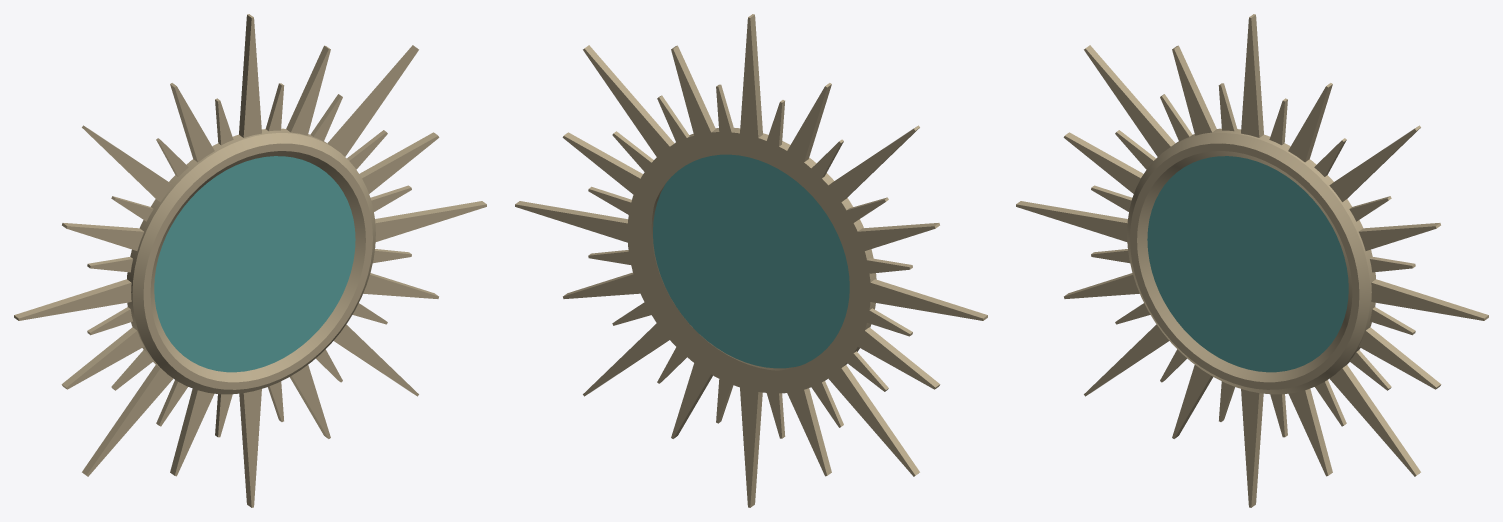
The model's file is KC32__AD_Int_Mirror_Sunburst.glb.
The picture shows the model from 3 angles, left to right: view 1: azimuth 30°, elevation 25°; view 2: azimuth 150°, elevation 25°; view 3: azimuth 330°, elevation 25°; orthographic projection.
Visible parts, largest first — view 1: KC32_BRONZE__AD_Int_Mirror_Sunburst, KC32_CORPS__AD_Int_Mirror_Sunburst; view 2: KC32_BRONZE__AD_Int_Mirror_Sunburst, KC32_CORPS__AD_Int_Mirror_Sunburst; view 3: KC32_BRONZE__AD_Int_Mirror_Sunburst, KC32_CORPS__AD_Int_Mirror_Sunburst.
Boxes of the visible parts, x1=… form: KC32_BRONZE__AD_Int_Mirror_Sunburst: x1=14, y1=14, x2=486, y2=507; KC32_CORPS__AD_Int_Mirror_Sunburst: x1=154, y1=156, x2=355, y2=372; KC32_BRONZE__AD_Int_Mirror_Sunburst: x1=515, y1=14, x2=987, y2=507; KC32_CORPS__AD_Int_Mirror_Sunburst: x1=653, y1=154, x2=849, y2=368; KC32_BRONZE__AD_Int_Mirror_Sunburst: x1=1016, y1=14, x2=1488, y2=507; KC32_CORPS__AD_Int_Mirror_Sunburst: x1=1147, y1=156, x2=1348, y2=372.
Size of the model in its own units: 2 by 2 by 0.075.
